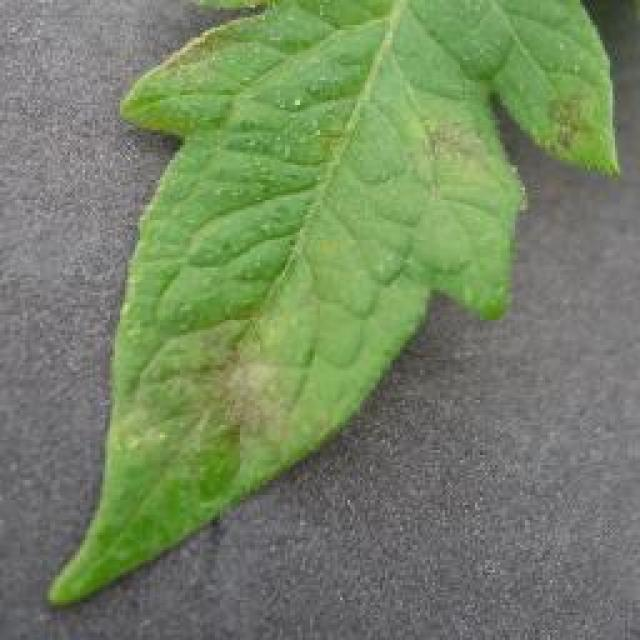Tomato Late Blight: (152, 255, 312, 470)
